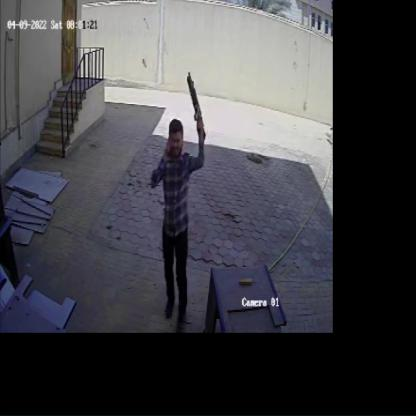handgun: (181, 61, 214, 143)
